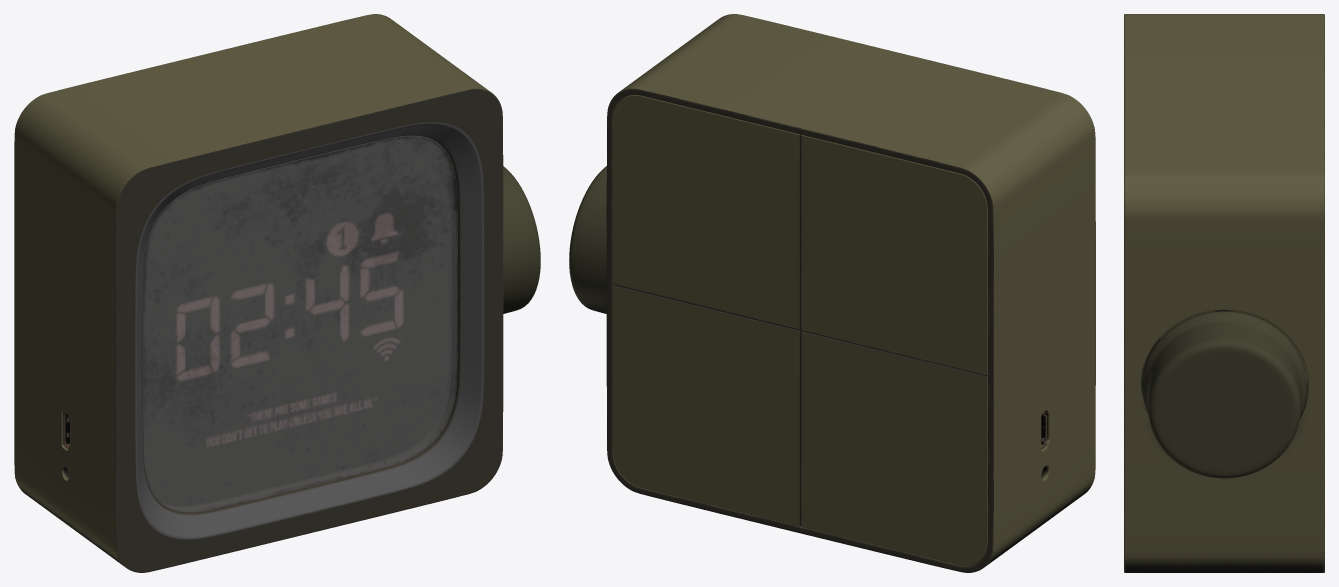
The picture shows the model from 3 angles, left to right: view 1: azimuth 30°, elevation 25°; view 2: azimuth 150°, elevation 25°; view 3: azimuth 270°, elevation 25°; orthographic projection.
Visible parts, largest first — view 1: alarmclock.001_low, alarmclock.003_low, alarmclock.004_low, alarmclock.005_low; view 2: alarmclock.002_low, alarmclock.001_low, alarmclock.005_low; view 3: alarmclock.001_low, alarmclock.005_low.
Part boxes in pixels (x1,y1,x2,y2): alarmclock.001_low: (14,14,503,572); alarmclock.003_low: (143,135,457,512); alarmclock.004_low: (143,136,448,505); alarmclock.005_low: (503,166,540,313); alarmclock.002_low: (613,94,987,566); alarmclock.001_low: (606,14,1095,572); alarmclock.005_low: (569,166,606,313); alarmclock.001_low: (1124,14,1324,572); alarmclock.005_low: (1142,311,1306,478).
Size of what is drawn, in the model's own units: 0.1354 by 0.1193 by 0.0544.
1 material, 1 textured.
